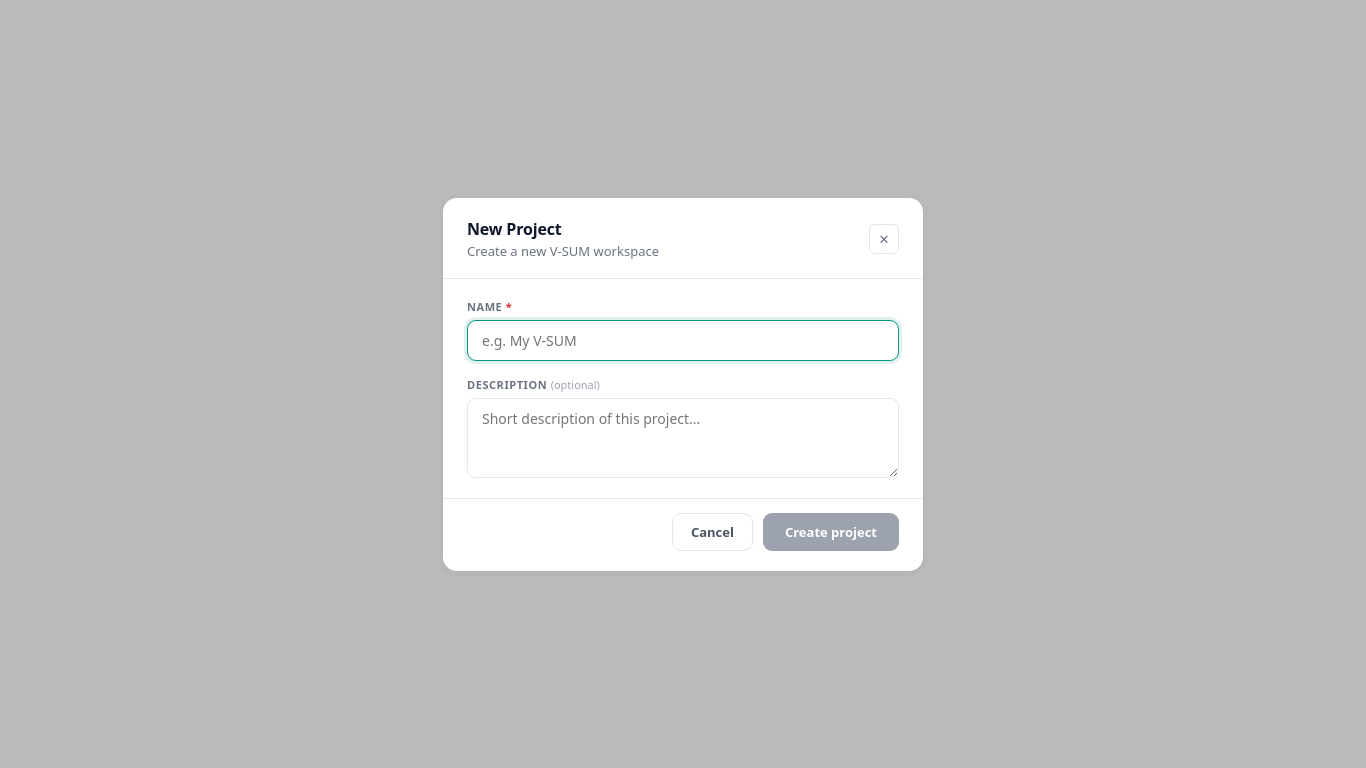
CreateVsumModal – additional tests › shows "Creating..." while submitting
Type "My VSUM" into the field labelled "Name *" at (683, 340), box [467, 320, 899, 360]
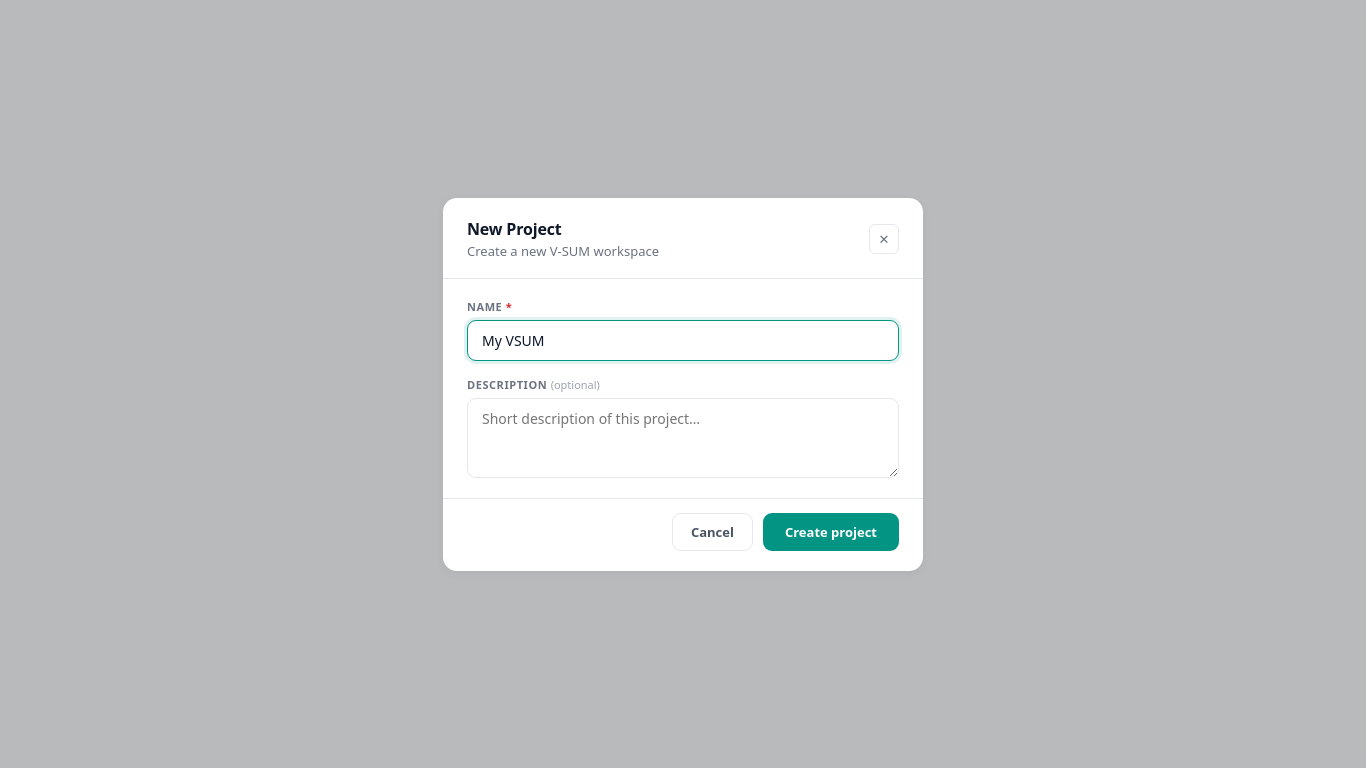
Click the button "Create project" at (831, 532), box [763, 512, 899, 550]
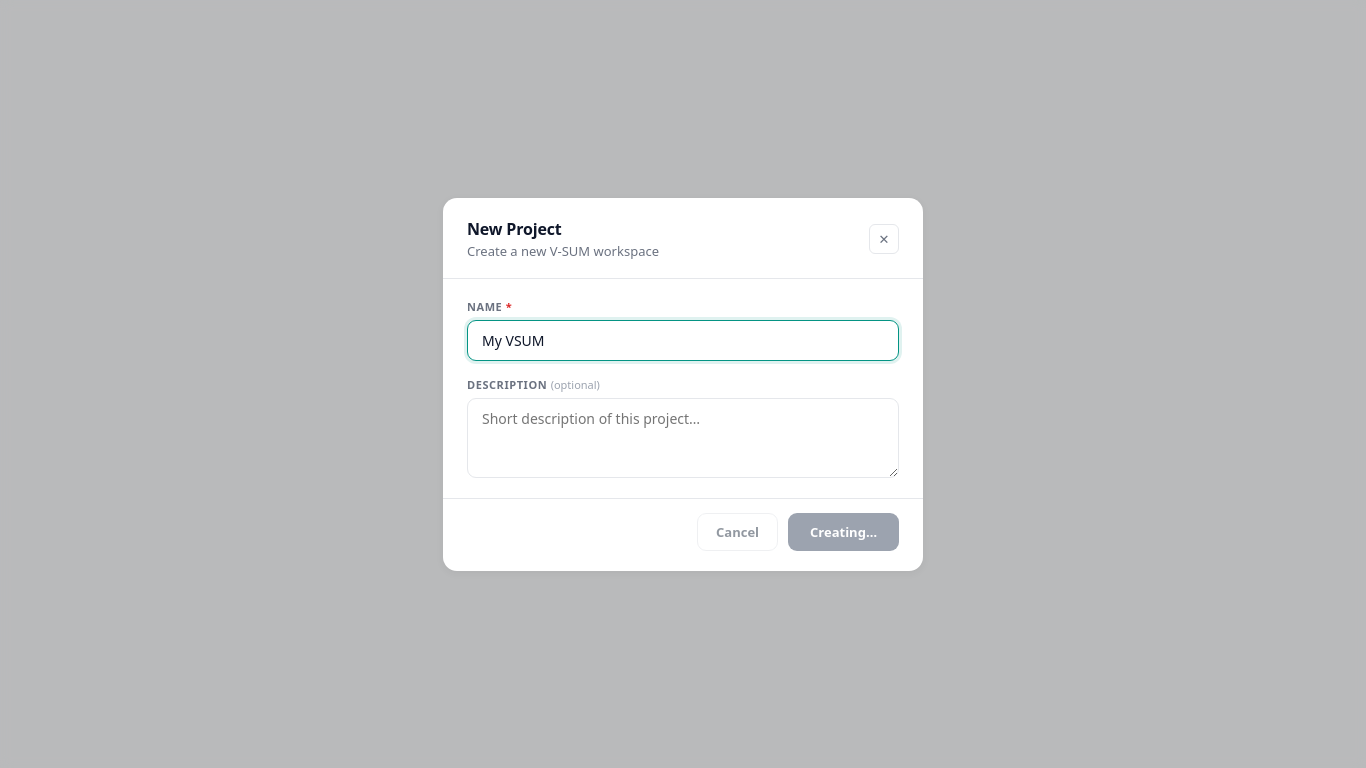
Expected: the button "Creating…" is shown, [788, 512, 899, 550]
